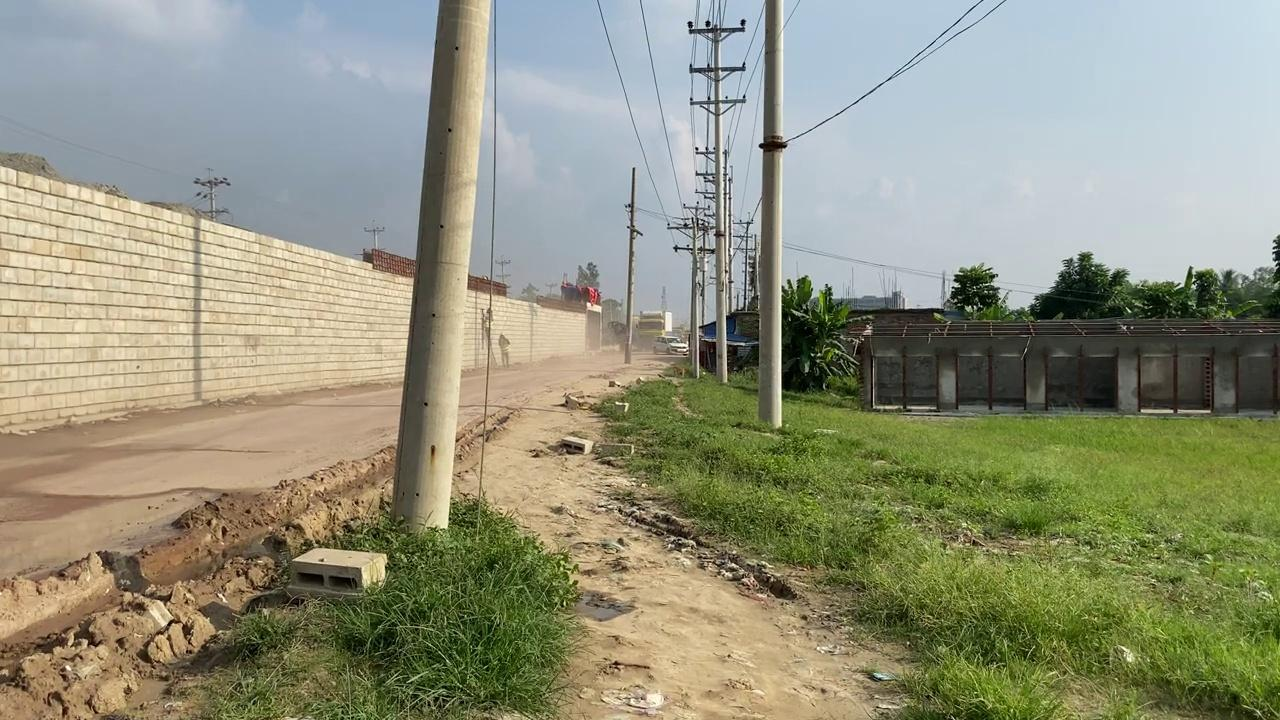Car: (652, 333, 688, 355)
Muddy road: (1, 345, 917, 718)
Obstacle: (283, 546, 387, 603)
Pole: (389, 0, 492, 535), (756, 0, 784, 428), (624, 166, 637, 363)
Rickshaw: (452, 357, 916, 718)
Traffic-sign: (780, 274, 858, 392), (1031, 248, 1132, 319), (944, 261, 1001, 317)
Tree: (652, 310, 689, 355), (560, 280, 601, 306)
Upstairs: (0, 163, 601, 434), (858, 317, 1278, 416)
